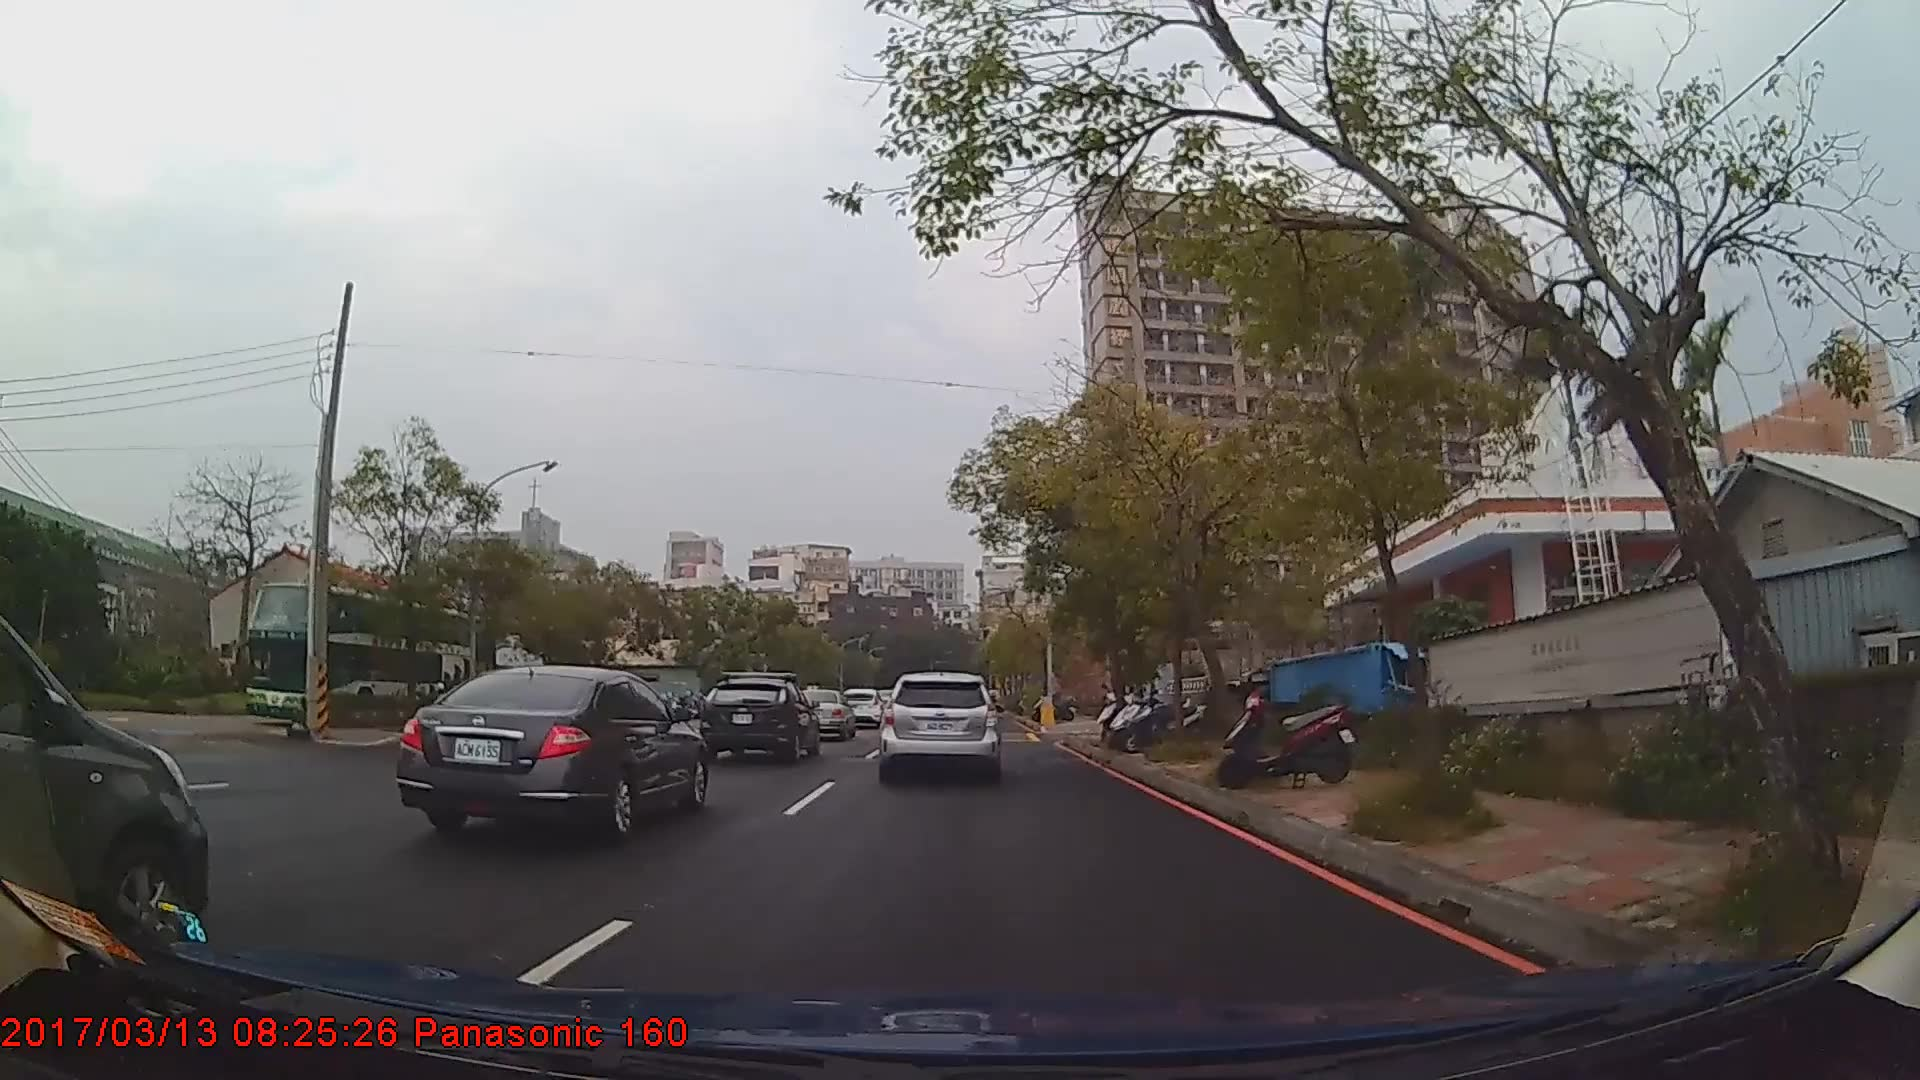vehicle: (397, 662, 708, 837), (241, 579, 472, 736), (878, 669, 1000, 779), (699, 669, 818, 764), (795, 684, 855, 738), (837, 686, 884, 727)
